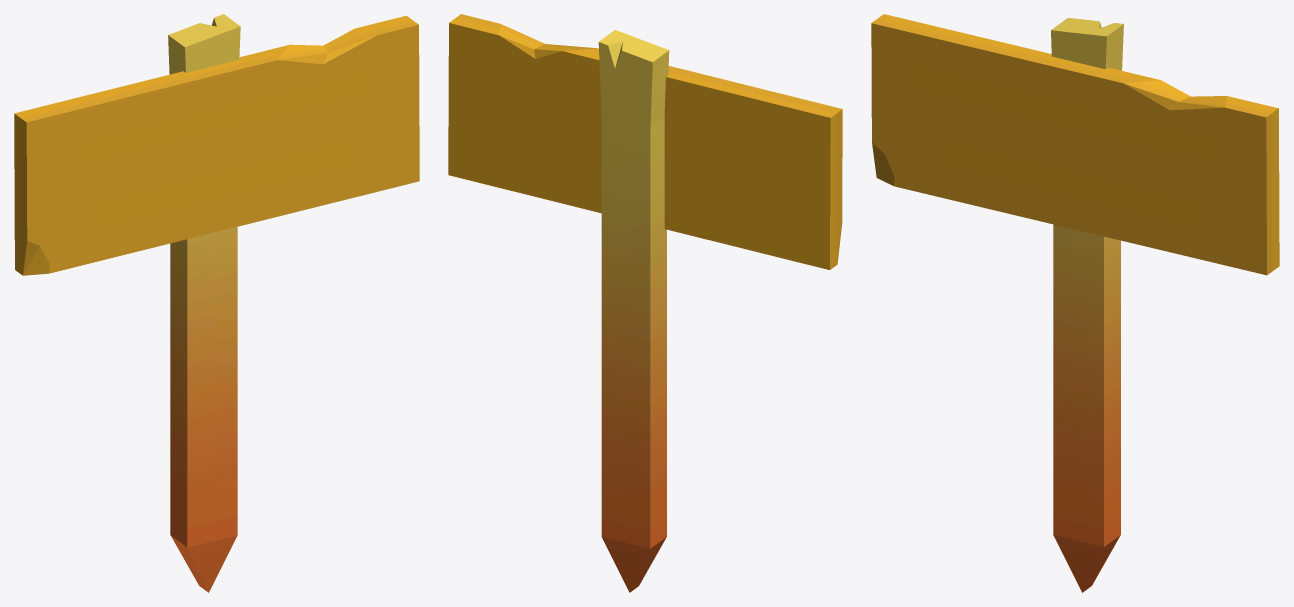
File: SM_Prop_GardenMarker_01.fbx
3 renders of one model, left to right at view 1: azimuth 30°, elevation 25°; view 2: azimuth 150°, elevation 25°; view 3: azimuth 330°, elevation 25°, orthographic. The views are drawn at different scales.
Visible parts, largest first — view 1: sign; view 2: sign; view 3: sign.
Part boxes in pixels (x1,y1,x2,y2): sign: [14, 14, 419, 592]; sign: [448, 14, 842, 592]; sign: [871, 14, 1279, 592].
Size of the model in its own units: 36.85 by 50.38 by 4.37.
1 material, 1 textured.
